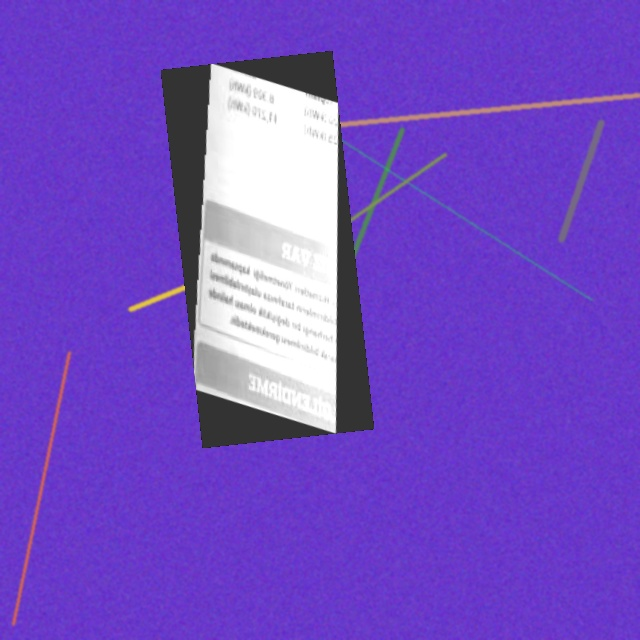electricity-bill: (160, 50, 373, 447)
